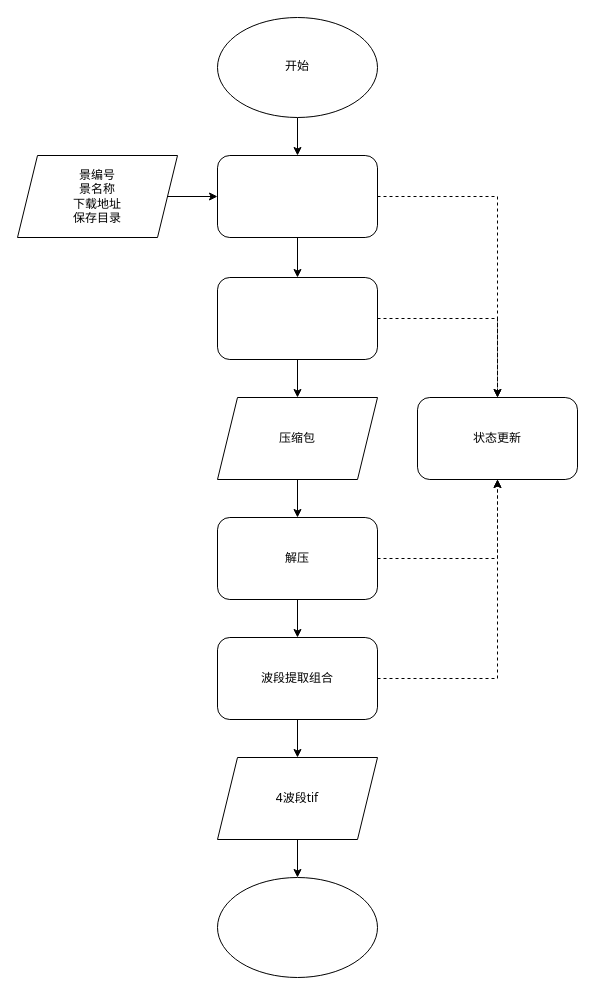
This 595x995 diagram has some shape labels left out. Here are the shapes that lost their labels. From the top down, the box of each, then its label:
(216, 154, 378, 238): 授权
(216, 276, 378, 360): 下载
(216, 876, 378, 978): 结束
